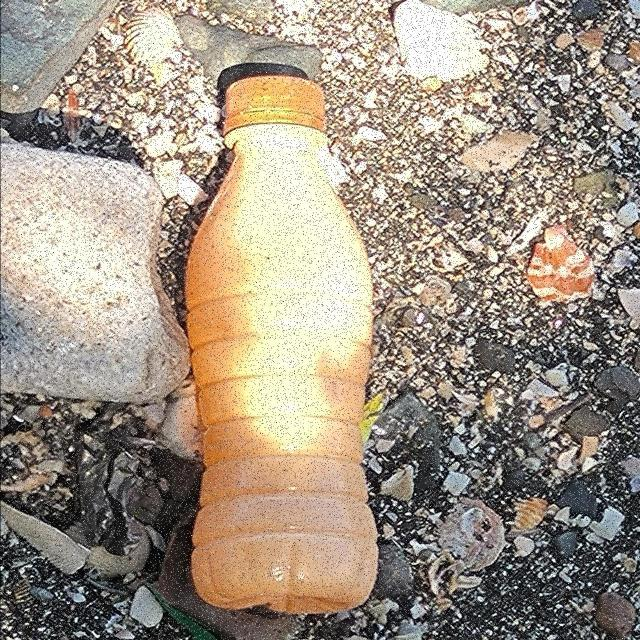plastic_waste: (184, 73, 382, 617)
